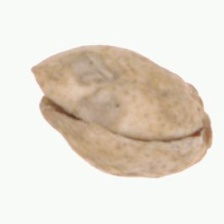L1: (29, 62, 65, 123), (189, 84, 214, 153)
L2: (30, 45, 214, 178)
